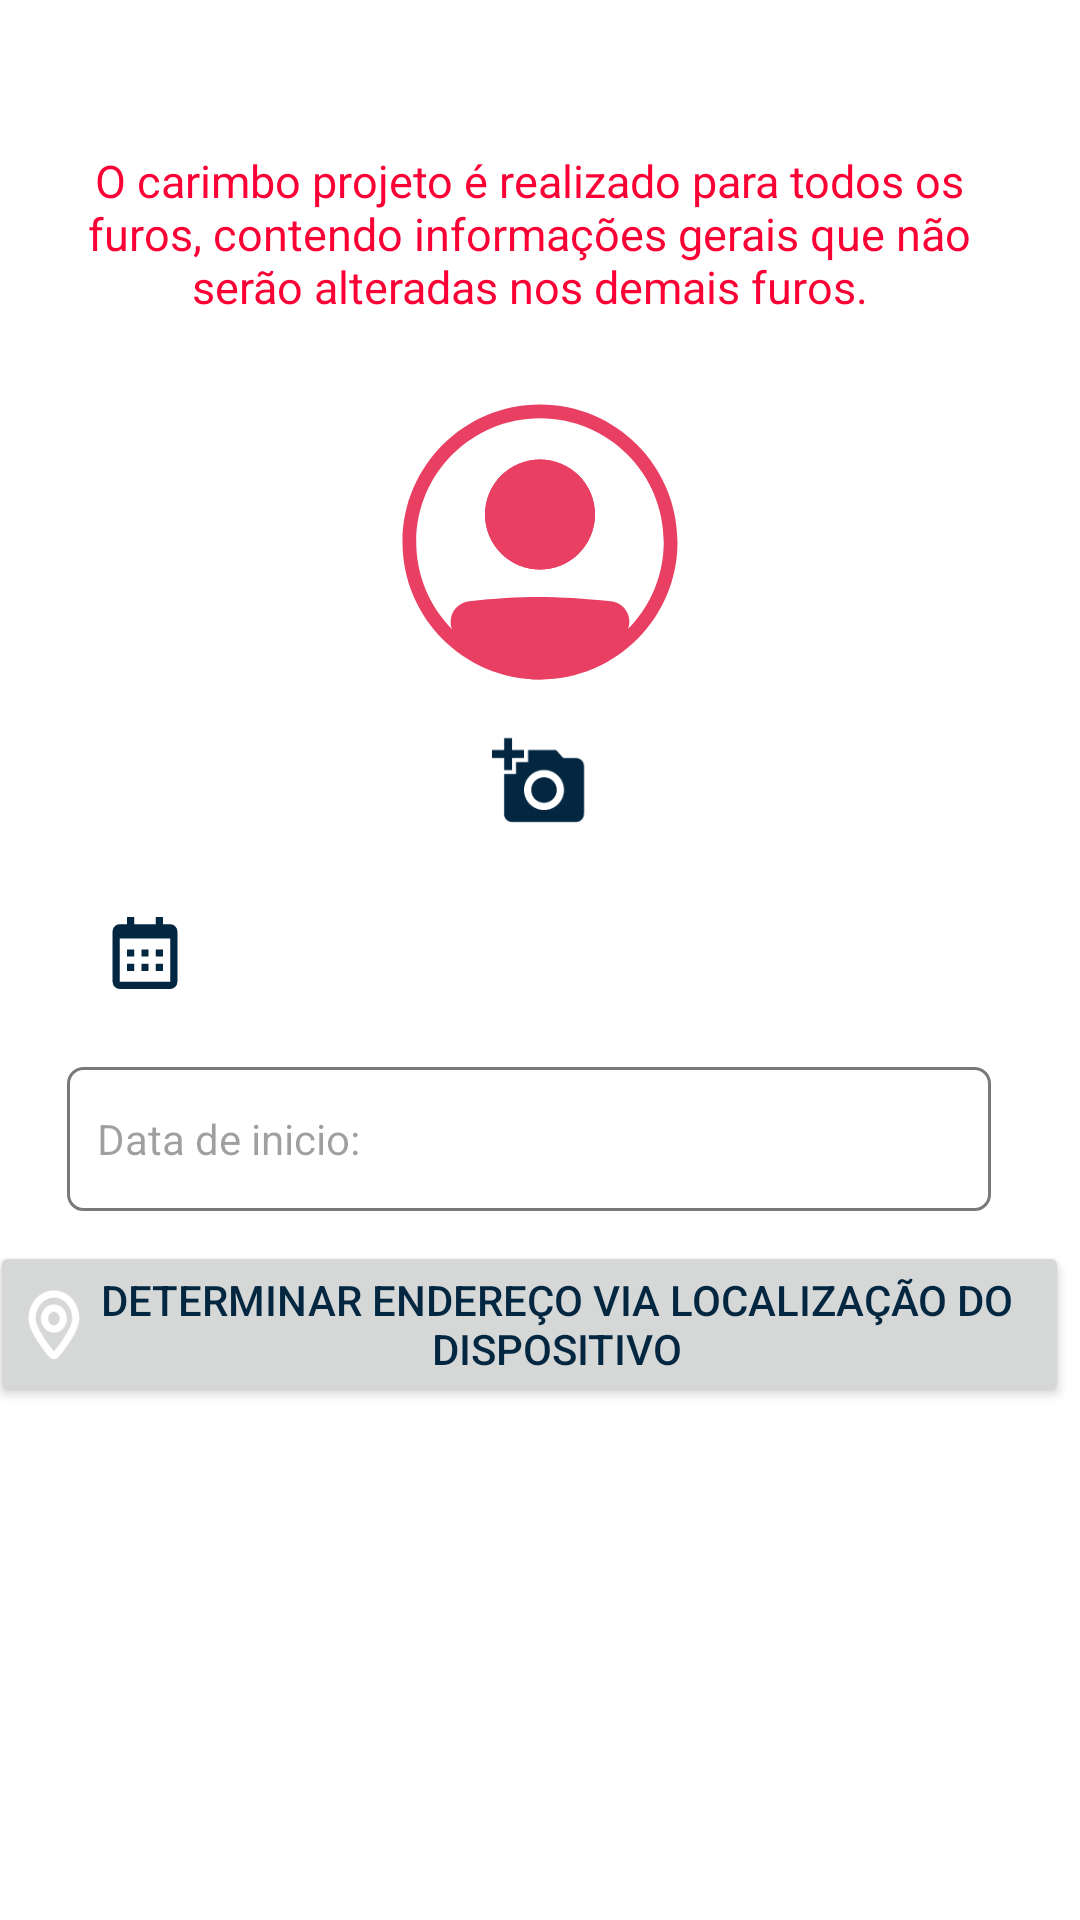

Icons on this 1080×1920 Android screen, each with the point to tap as (x=x, y=y):
date: (x=145, y=953)
photo: (x=538, y=780)
profile: (x=540, y=542)
